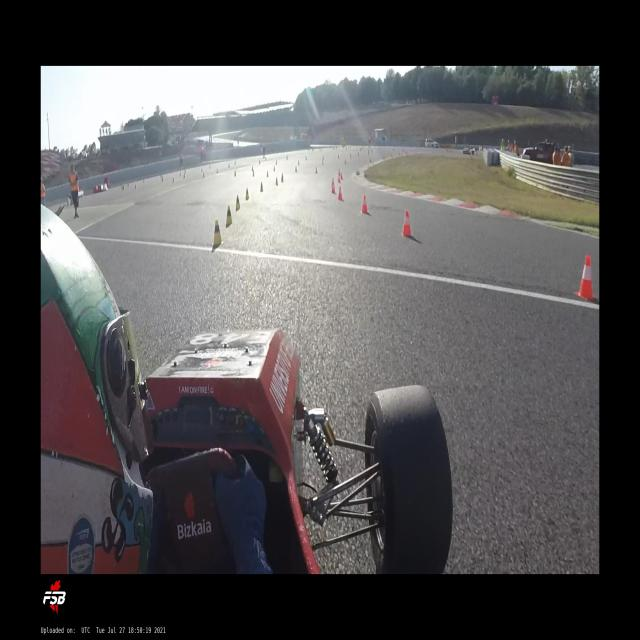orange_cone: (573, 256, 596, 300), (402, 210, 412, 236), (361, 194, 368, 214), (337, 186, 343, 200), (330, 181, 336, 194), (332, 177, 334, 187), (338, 174, 340, 182), (340, 172, 342, 180), (315, 166, 317, 174), (295, 166, 297, 172), (339, 169, 340, 175)
yellow_cone: (212, 220, 223, 246), (225, 205, 233, 224), (236, 194, 240, 212), (245, 187, 250, 200), (260, 182, 263, 192), (281, 172, 284, 182), (276, 177, 278, 186)
